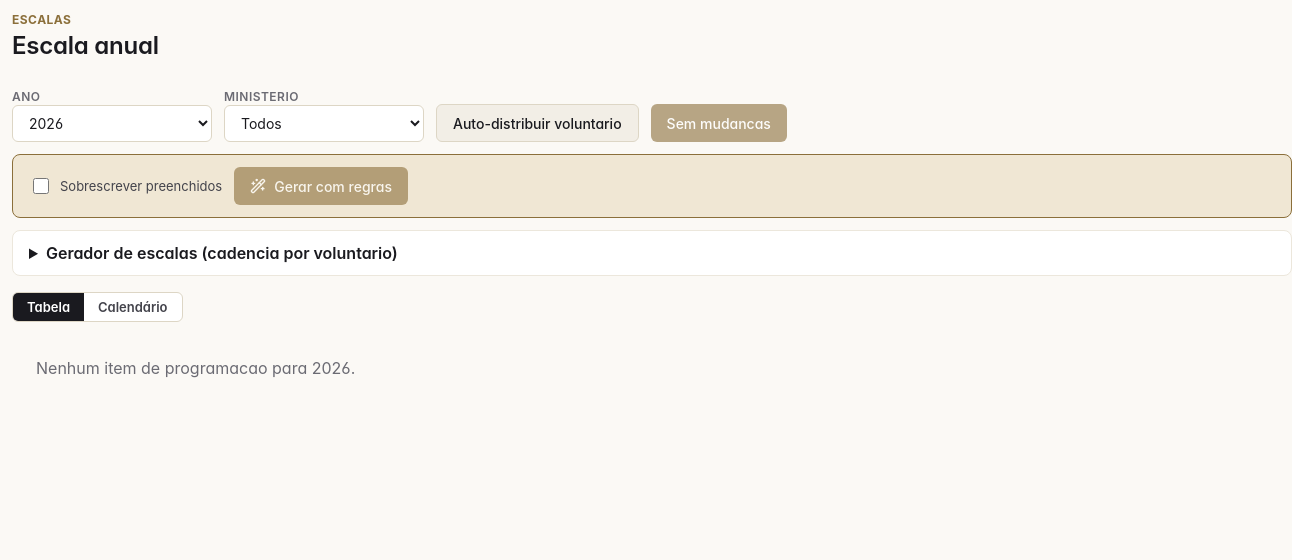
Scenario: AnnualScheduleView › mounts the auto-distribute panel only after clicking the toggle
The width and height of the screenshot is (1292, 560).
Expected: the button "Aplicar" is not shown
What coordinates should you click on to do the following:
click the button "Auto-distribuir voluntario"
I would click on:
 (537, 123)
Its box is left=436, top=104, right=639, bottom=142.
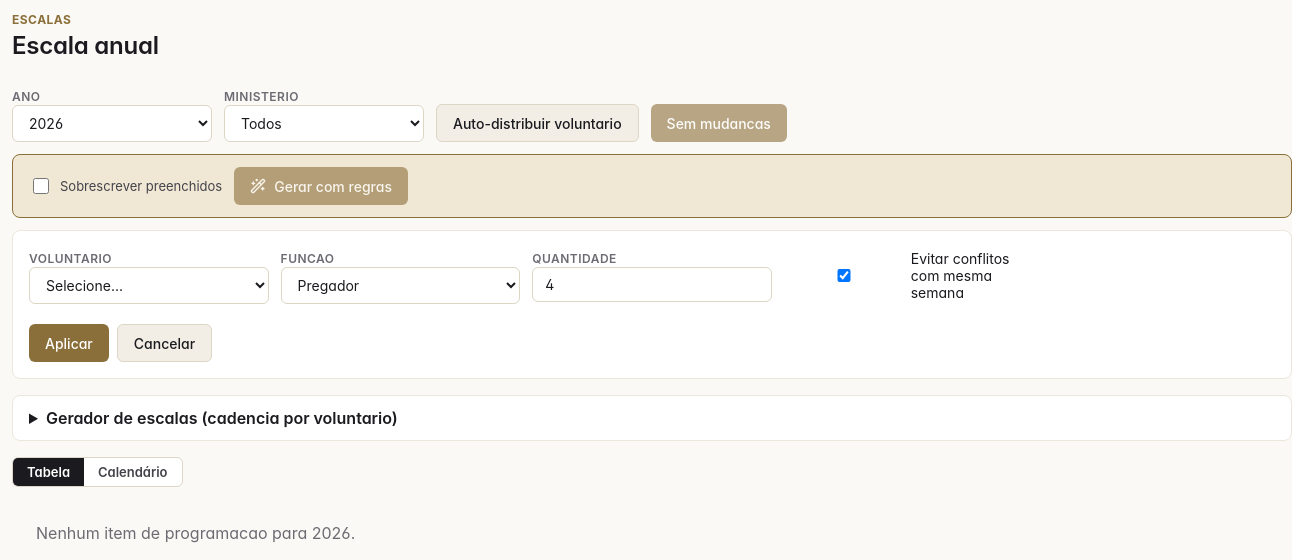
Now the button "Aplicar" is shown, box left=29, top=324, right=109, bottom=362
Now the button "Cancelar" is shown, box left=117, top=324, right=212, bottom=362
